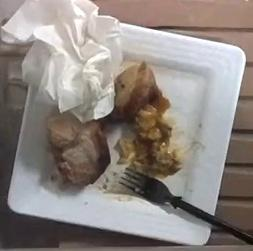pork: (48, 111, 110, 185), (105, 62, 160, 122)
unknown: (131, 104, 181, 177)
